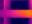Hotspot: (21, 10, 31, 17)
